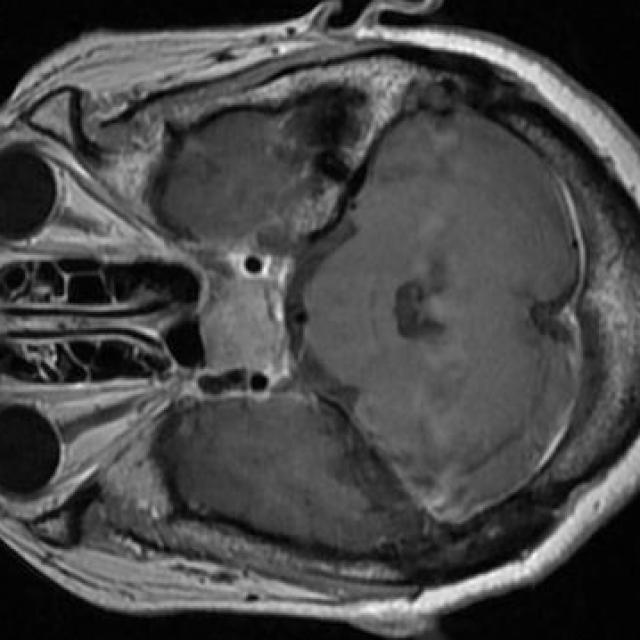pituitary: (200, 280, 275, 371)
